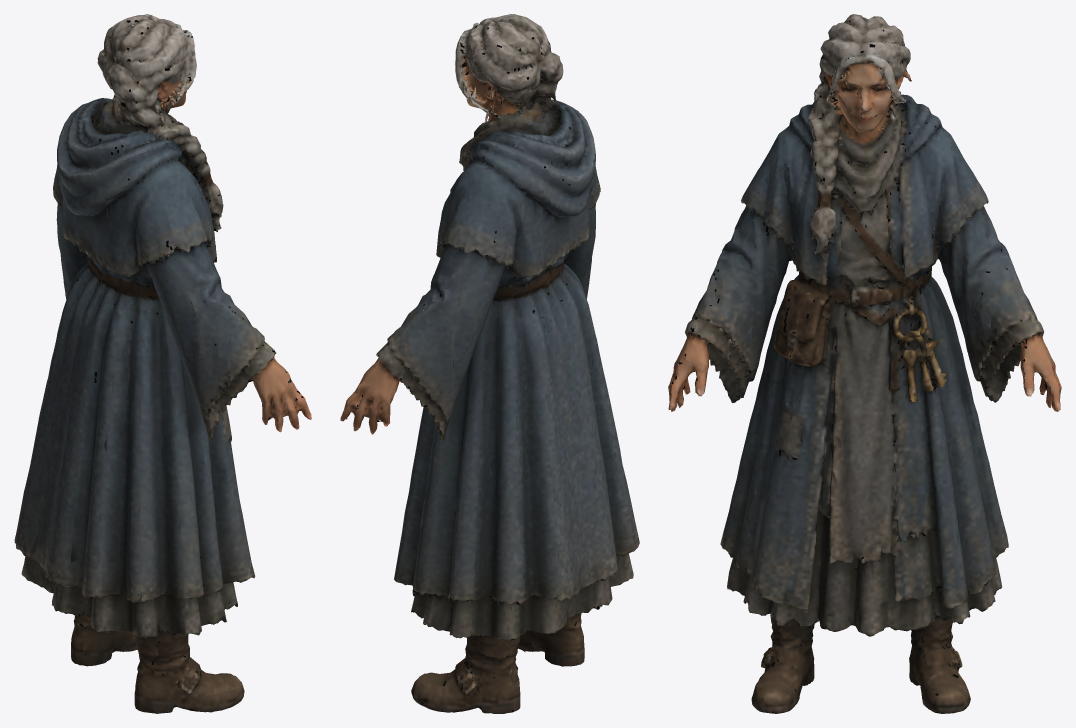
File: sd-npc-ilyra-canonical-v001.glb
The picture shows the model from 3 angles, left to right: view 1: azimuth 30°, elevation 25°; view 2: azimuth 150°, elevation 25°; view 3: azimuth 270°, elevation 25°; orthographic projection. The views are drawn at different scales.
Visible parts, largest first — view 1: SD_HumanoidUnifiedQuadCage; view 2: SD_HumanoidUnifiedQuadCage; view 3: SD_HumanoidUnifiedQuadCage.
Part boxes in pixels (x1,y1,x2,y2): SD_HumanoidUnifiedQuadCage: (14,14,311,713); SD_HumanoidUnifiedQuadCage: (340,14,639,713); SD_HumanoidUnifiedQuadCage: (668,14,1061,713).
Bounding box in the file's own units: 0.4601 × 1.68 × 0.8913.
Materials: 1 (1 with a texture image).
